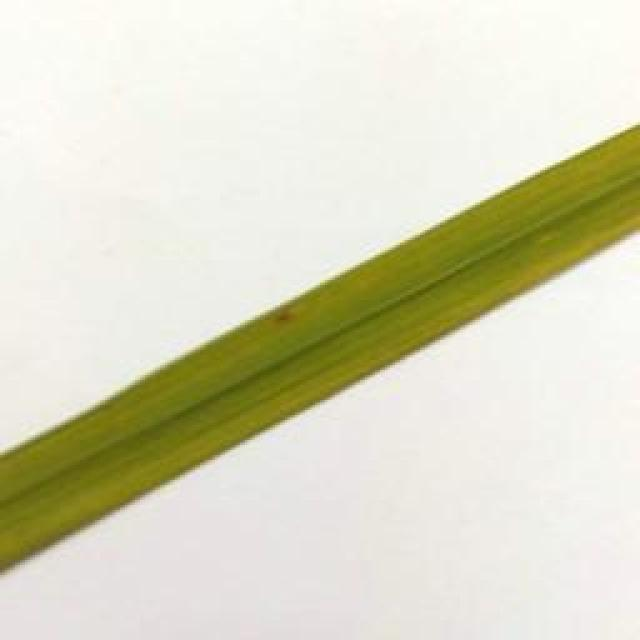Brown_Spot: (266, 308, 311, 325)
